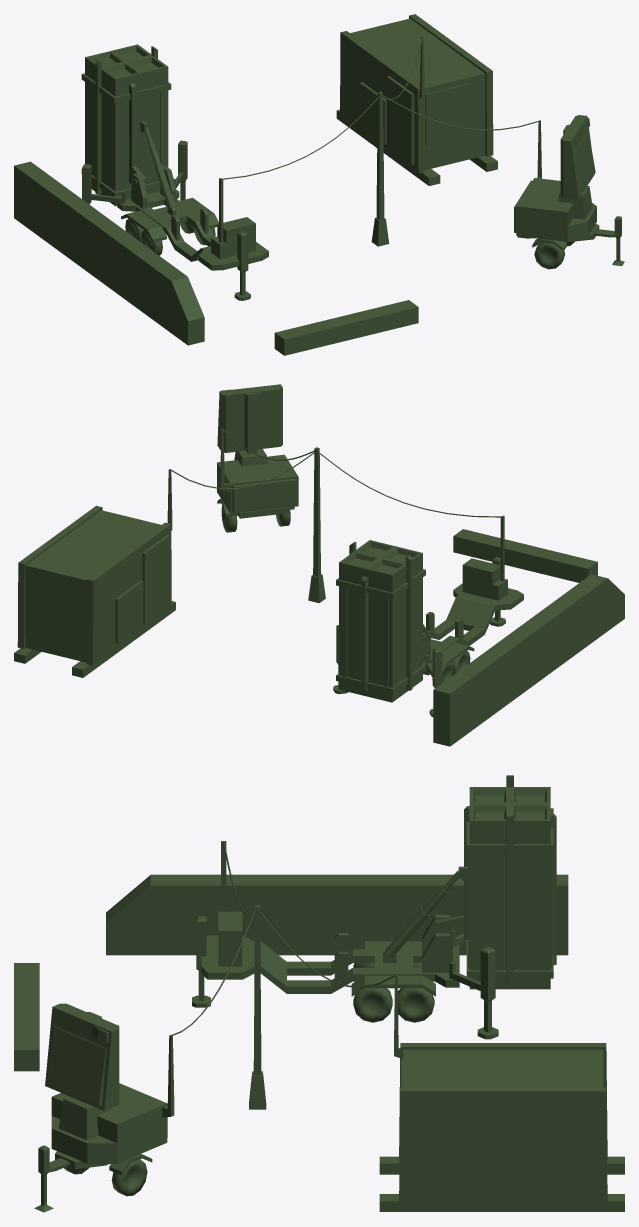
File: Missile Level2.fbx
The picture shows the model from 3 angles, top to bottom: view 1: azimuth 30°, elevation 25°; view 2: azimuth 150°, elevation 25°; view 3: azimuth 270°, elevation 25°; orthographic projection. The views are drawn at different scales.
Visible parts, largest first — view 1: Missile Level2; view 2: Missile Level2; view 3: Missile Level2.
Boxes of the visible parts, x1,y1,x2,y2 form: Missile Level2: (14, 14, 624, 355); Missile Level2: (14, 384, 624, 746); Missile Level2: (14, 775, 624, 1212).
Size of the model in its own units: 739 by 269 by 709.
